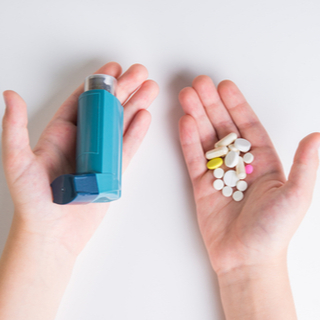Medicine: (46, 67, 131, 215)
